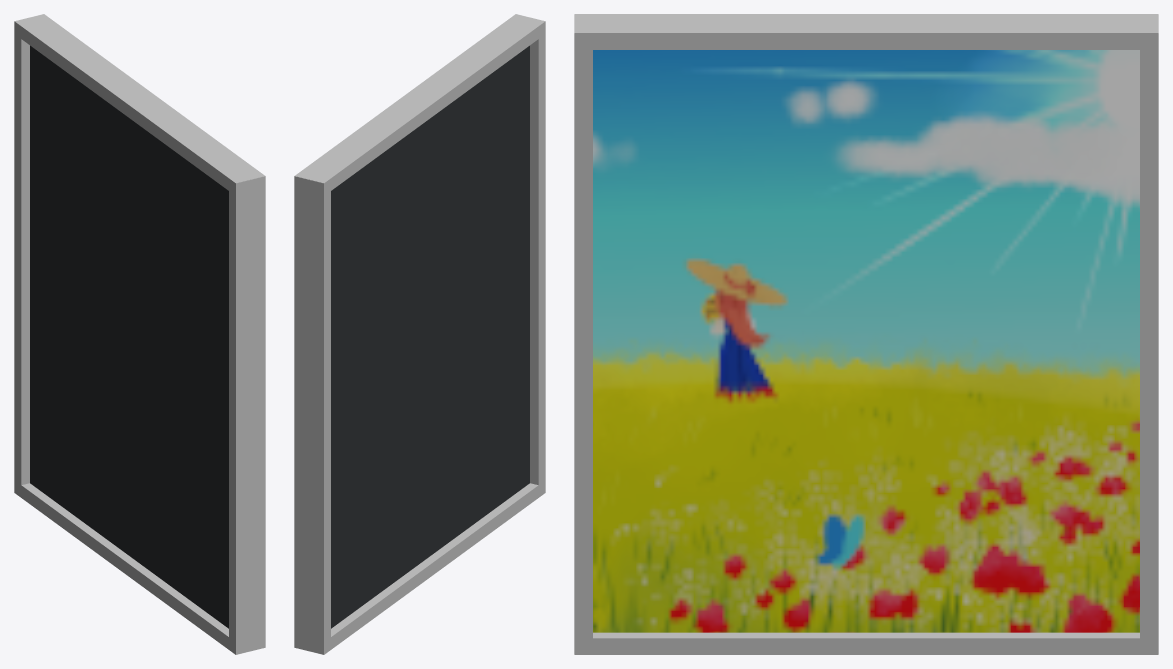
File: Taulu2.fbx
The picture shows the model from 3 angles, left to right: view 1: azimuth 30°, elevation 25°; view 2: azimuth 150°, elevation 25°; view 3: azimuth 270°, elevation 25°; orthographic projection. The views are drawn at different scales.
Parts seen in each view (by area): view 1: kanvas; view 2: kanvas; view 3: kanvas.
Part boxes in pixels (x1=…): kanvas: x1=14, y1=14, x2=265, y2=654; kanvas: x1=294, y1=14, x2=545, y2=654; kanvas: x1=574, y1=14, x2=1158, y2=654.
Size of the model in its own units: 16 by 243 by 207.
